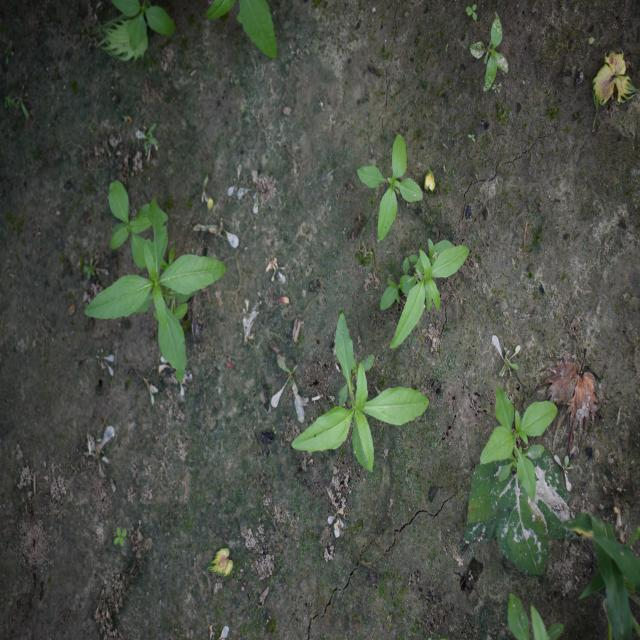Eclipta: (84, 179, 228, 386), (290, 312, 431, 474), (379, 237, 470, 351), (478, 384, 560, 503), (356, 133, 424, 242), (468, 11, 510, 93)
